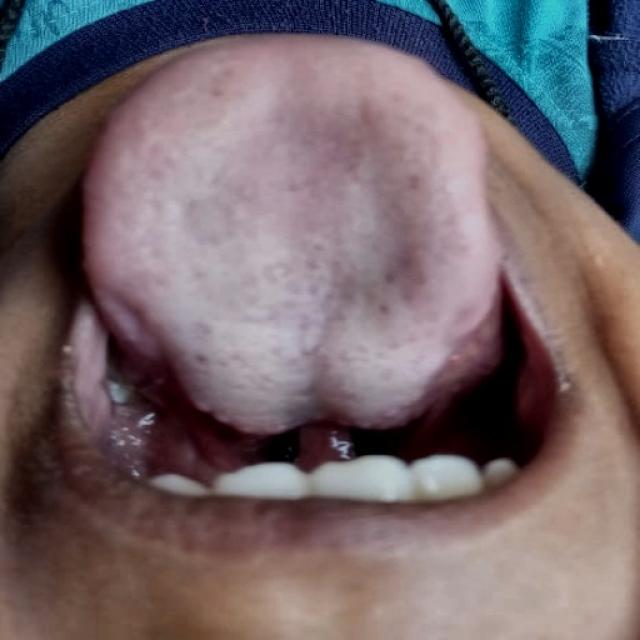processing_area: (92, 37, 495, 429)
